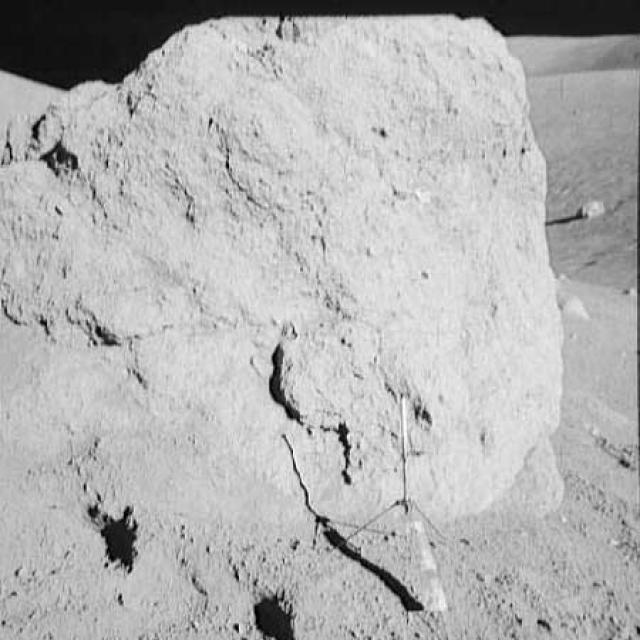artifact: (317, 396, 480, 550)
rock: (2, 13, 569, 561), (578, 191, 607, 225)
